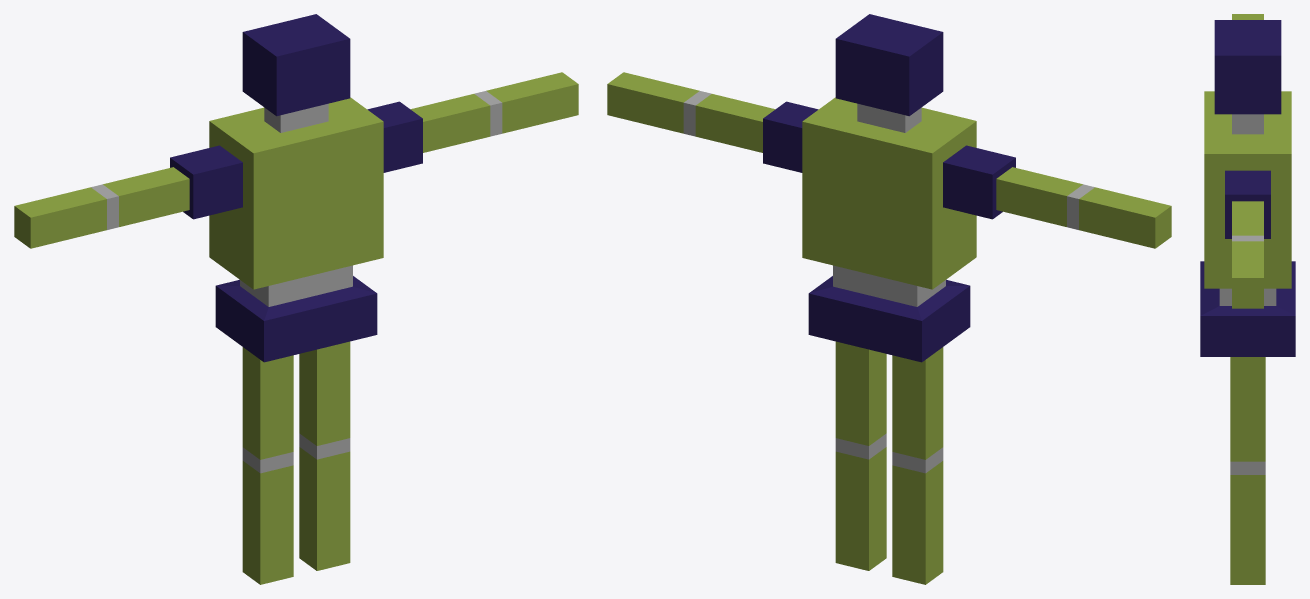
Rendered from Character.fbx.
3 views of the same model, side by side, from view 1: azimuth 30°, elevation 25°; view 2: azimuth 150°, elevation 25°; view 3: azimuth 270°, elevation 25° (orthographic).
Parts seen in each view (by area): view 1: Cubo; view 2: Cubo; view 3: Cubo.
Boxes of the visible parts, left/top/right/bottom form: Cubo: left=14, top=14, right=578, bottom=584; Cubo: left=607, top=14, right=1171, bottom=584; Cubo: left=1200, top=14, right=1295, bottom=584.
Size of the model in its own units: 216 by 201 by 33.11.
